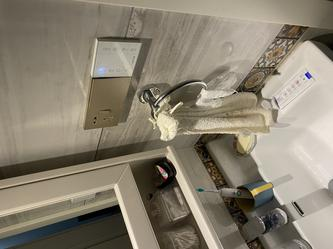switch: (101, 110, 114, 118)
